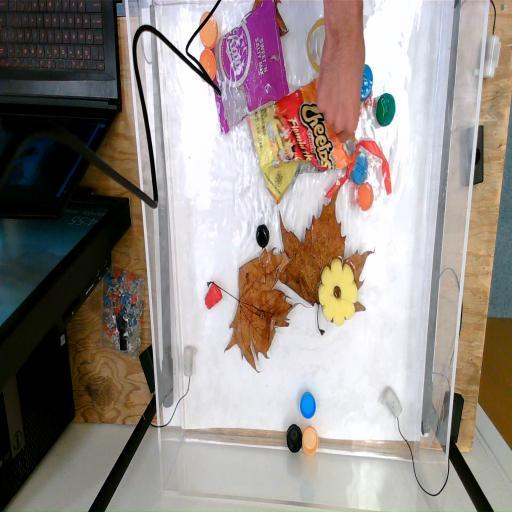Bottle Cap: (376, 92, 402, 130), (199, 12, 218, 48), (298, 390, 320, 420), (357, 64, 375, 100), (351, 154, 370, 185), (200, 48, 216, 84), (302, 425, 320, 456), (286, 422, 302, 454), (357, 183, 375, 211), (255, 223, 270, 249)
Cone Cap: (205, 281, 223, 311)
Leaf: (268, 186, 386, 340), (198, 247, 314, 373), (237, 0, 299, 46)
Plastic Bag: (242, 80, 359, 203), (192, 2, 297, 134)
Plastic Strand: (322, 139, 397, 202), (302, 10, 329, 74)
Sponge: (317, 256, 358, 326)
